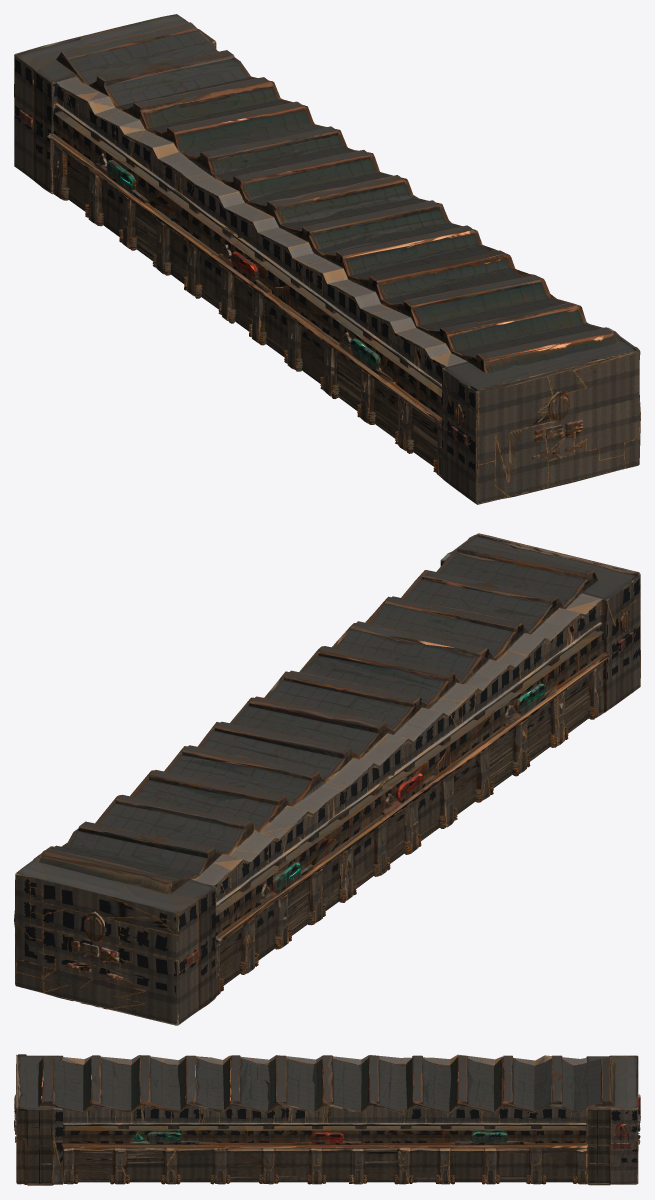
The picture shows the model from 3 angles, top to bottom: view 1: azimuth 30°, elevation 25°; view 2: azimuth 150°, elevation 25°; view 3: azimuth 270°, elevation 25°; orthographic projection. The views are drawn at different scales.
Parts seen in each view (by area): view 1: l02; view 2: l02; view 3: l02.
Part boxes in pixels (x1=…): l02: x1=14, y1=14, x2=640, y2=504; l02: x1=14, y1=533, x2=640, y2=1025; l02: x1=14, y1=1054, x2=640, y2=1185.
Size of the model in its own units: 31.43 by 22 by 147.
Materials: 1 (1 with a texture image).
